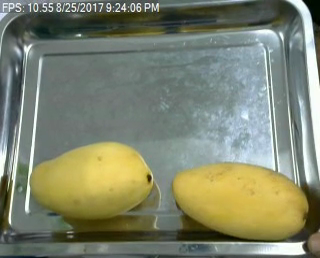Mango: (170, 161, 307, 241), (29, 139, 156, 224)
